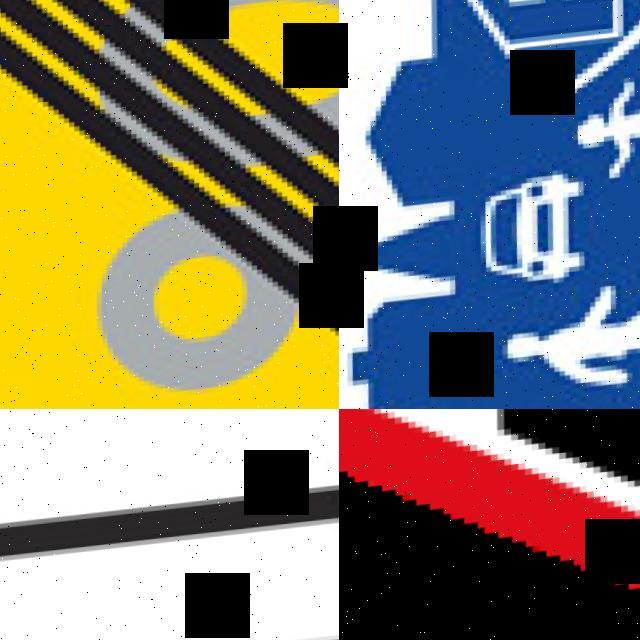124: (0, 0, 339, 409)
170: (0, 409, 339, 640)
52: (339, 0, 640, 409)
Unprotected quay: (339, 409, 640, 640)
